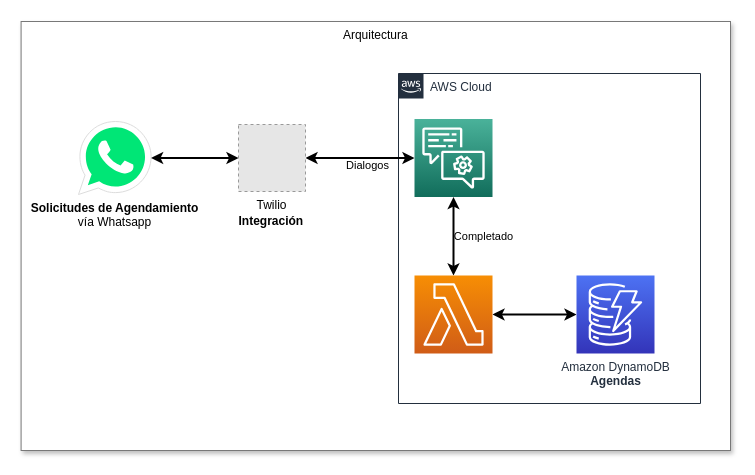
The diagram is 755 pixels wide and 475 high, and some of its shapes have lost their labels. Grey dashed boxes stand in for pictures. Here are the shapes that lost their labels. From the top down, the centre of each, then its label:
the point at 453,157: Amazon Lex Interacción
the point at 453,314: AWS Lambda Agendar
